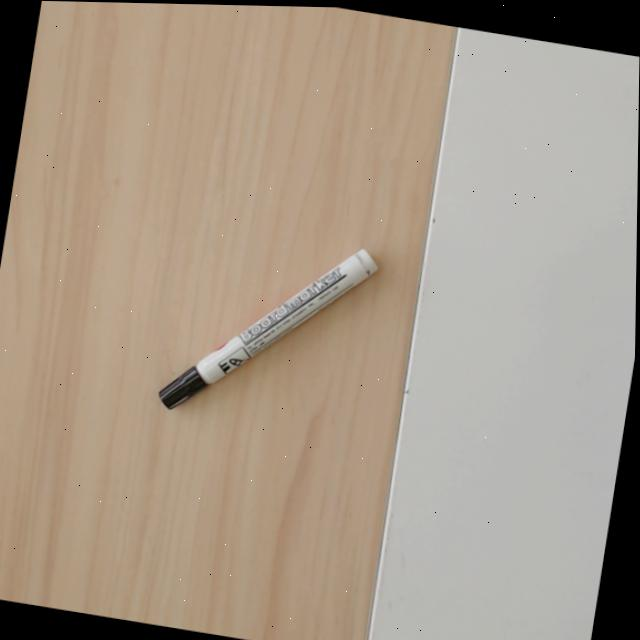Marker-Pen: (155, 245, 380, 413)
